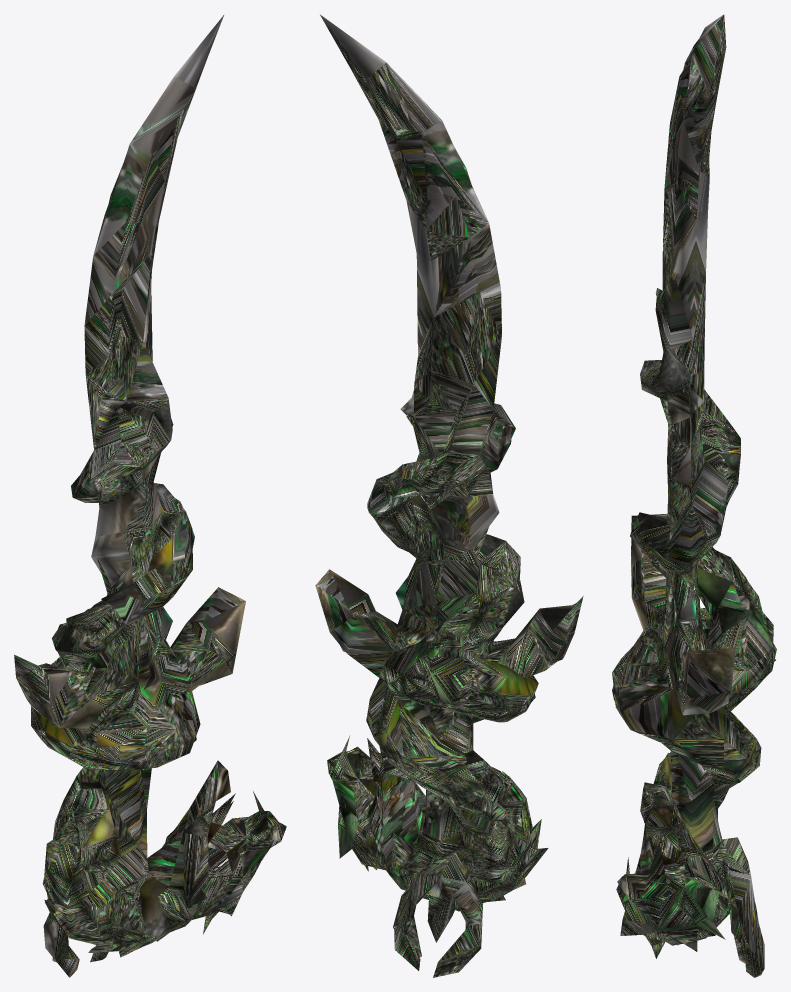
File: 1164_dagger.glb
The picture shows the model from 3 angles, left to right: view 1: azimuth 30°, elevation 25°; view 2: azimuth 150°, elevation 25°; view 3: azimuth 270°, elevation 25°; orthographic projection. The views are drawn at different scales.
Visible parts, largest first — view 1: Model; view 2: Model; view 3: Model.
Boxes of the visible parts, x1=… form: Model: x1=14, y1=15, x2=286, y2=977; Model: x1=315, y1=14, x2=583, y2=977; Model: x1=612, y1=14, x2=776, y2=977.
Size of the model in its own units: 0.2888 by 1 by 0.1453.
1 material, 1 textured.
